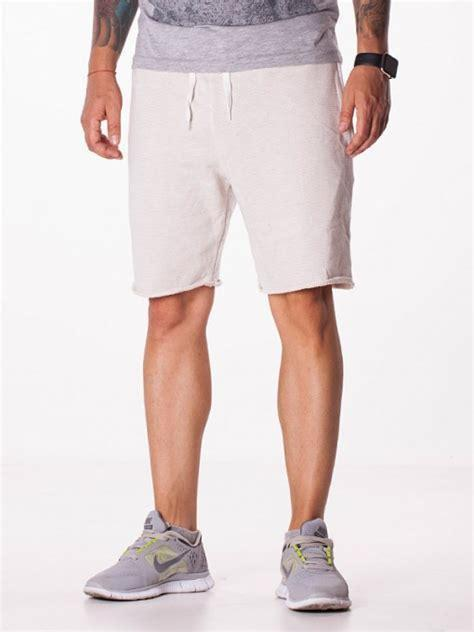short: (127, 22, 354, 296)
